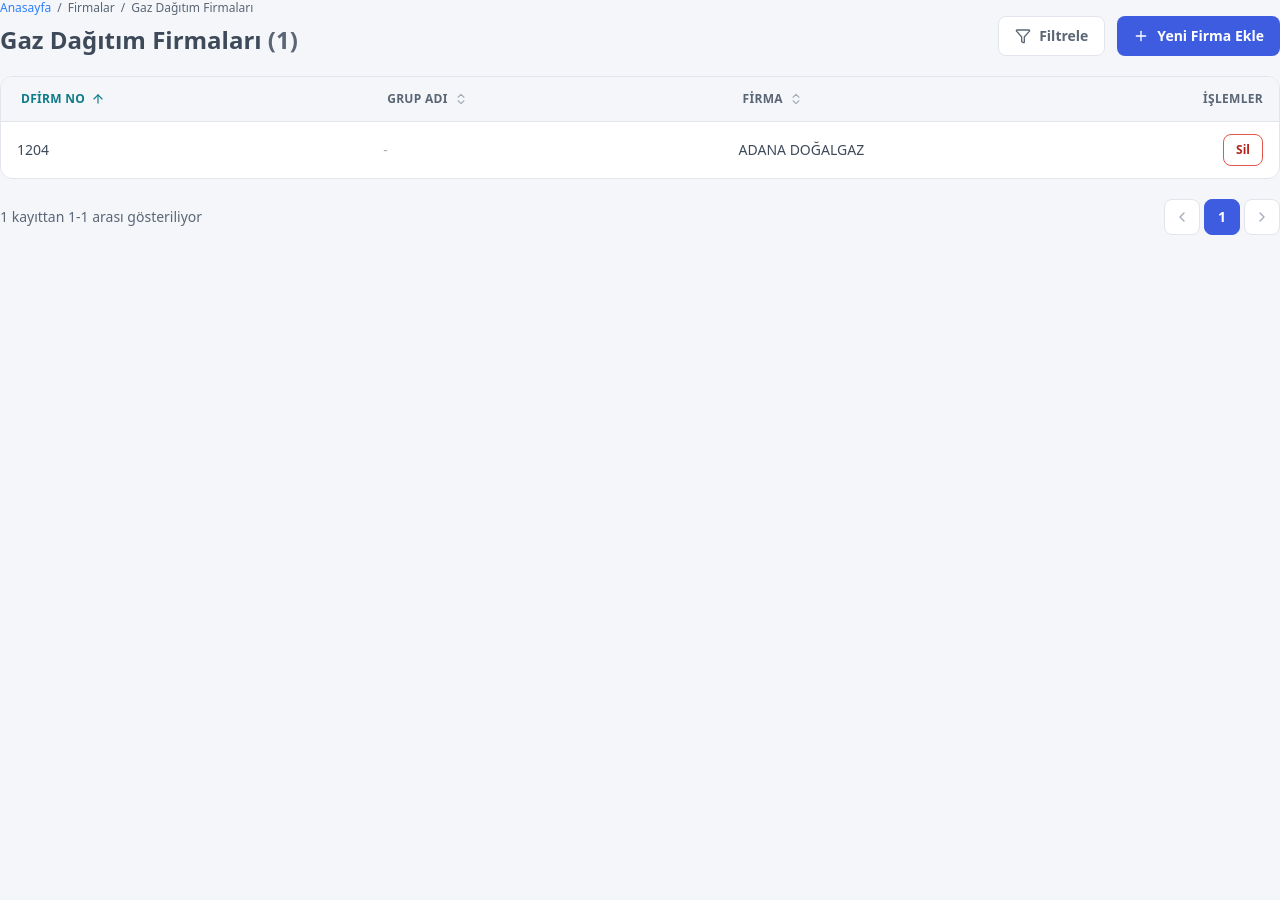
Test: firma silme › 404 listeyi yenilemeyi öneren mesaj gösterir
Click the button "Sil" at (1243, 150), box top-left (1223, 134), bottom-right (1263, 166)
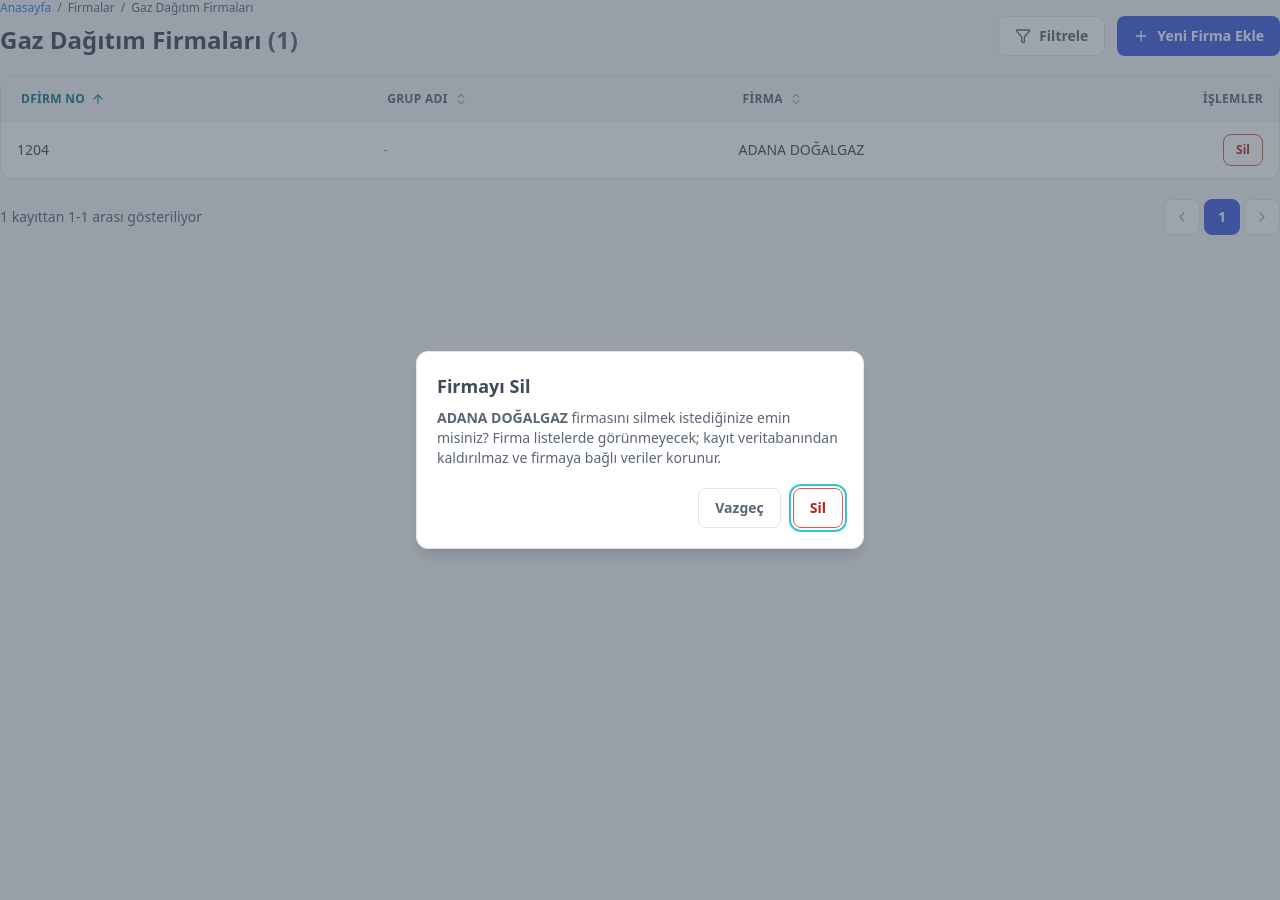
Click the button "Sil" at (818, 508), box top-left (793, 488), bottom-right (843, 528)
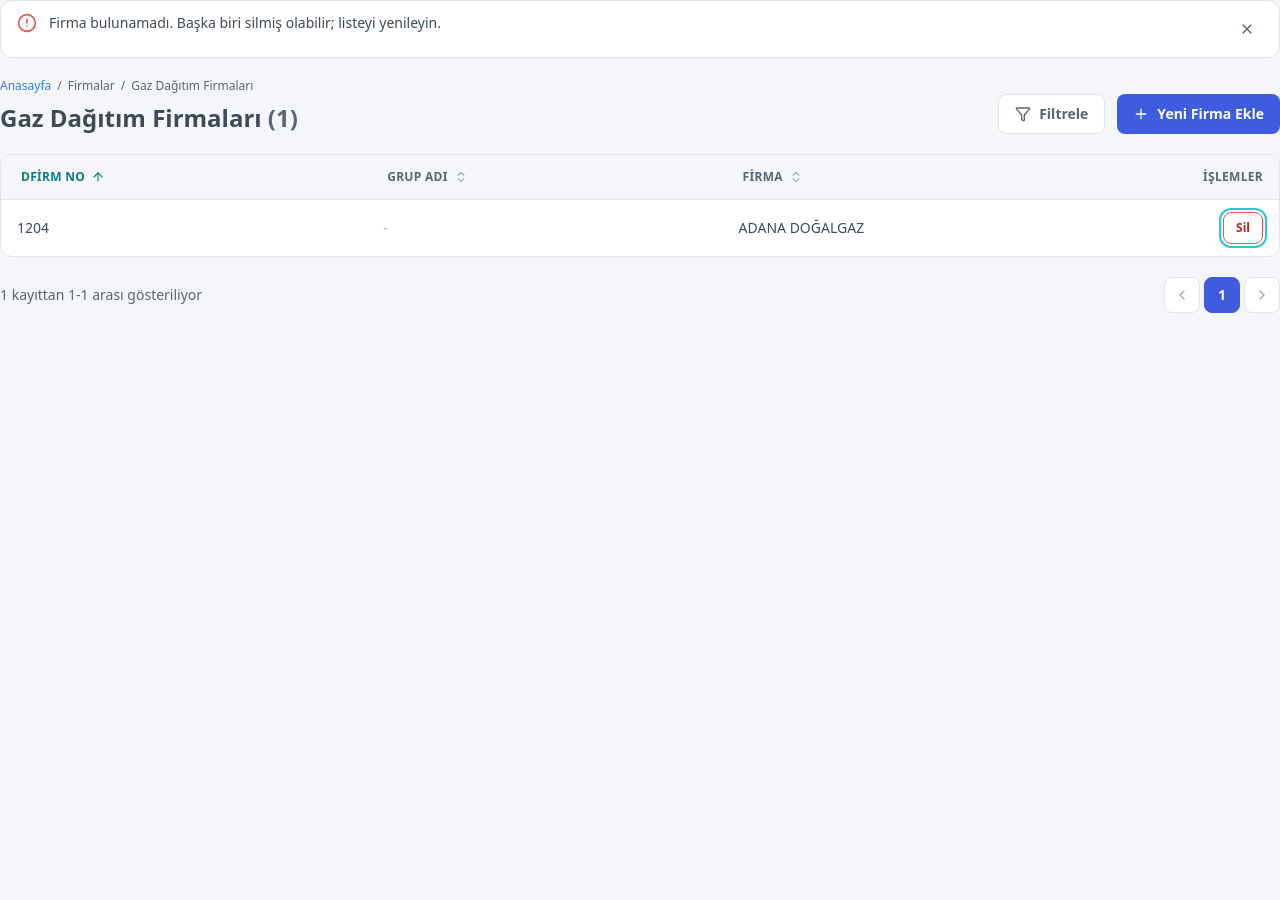
Result: the message shows "Firma bulunamadı" at top-left (49, 13), bottom-right (441, 32)
